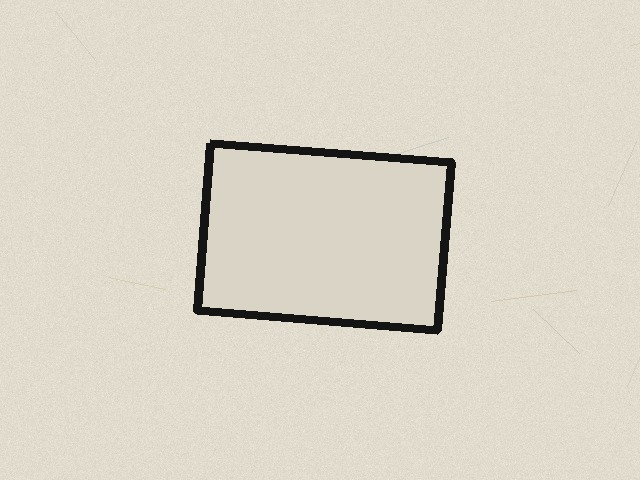parking_area: (197, 143, 451, 330)
